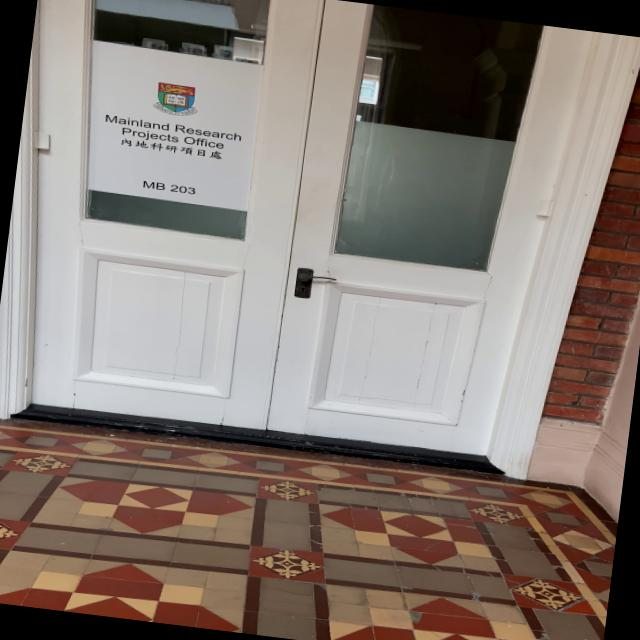room203Window: (136, 176, 200, 200)
